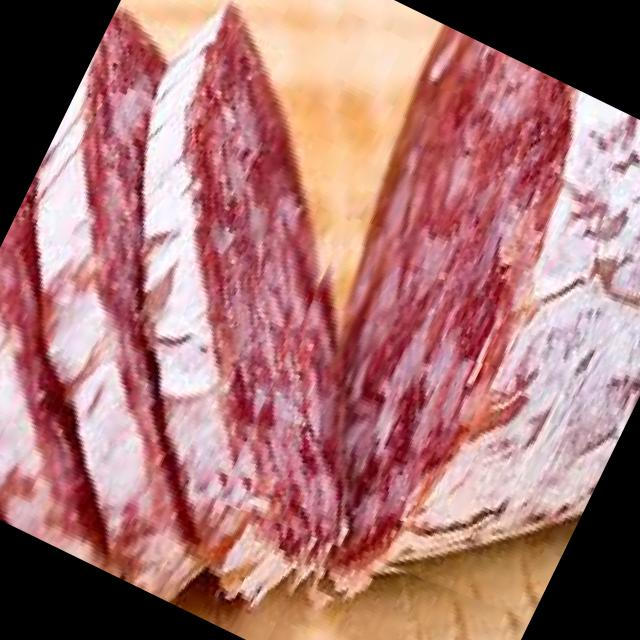Organic: (0, 0, 528, 640), (210, 23, 640, 640)
